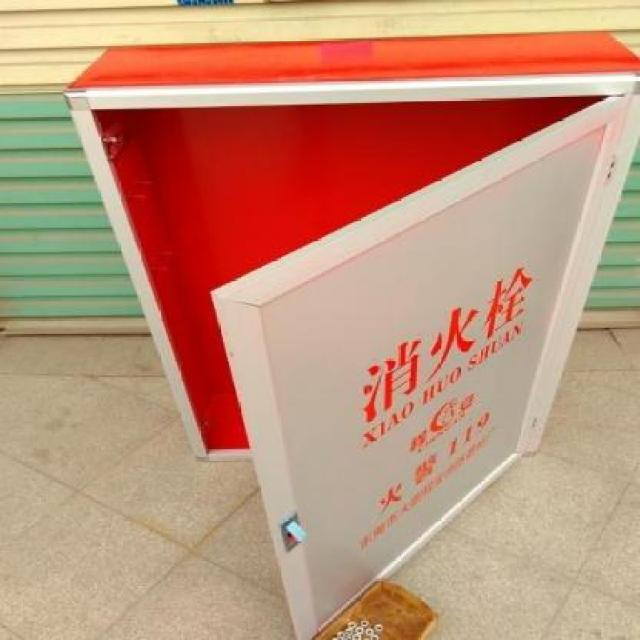firehydrant: (55, 19, 640, 638)
